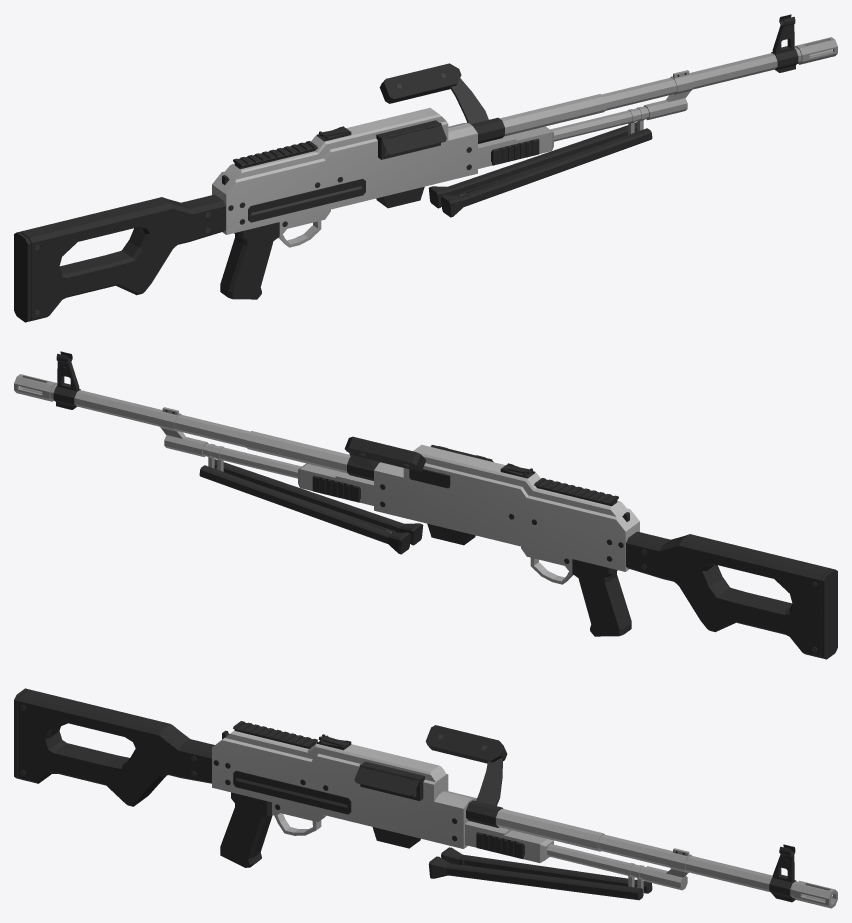
File: LMG3_03.fbx
3 views of the same model, one above another, from view 1: azimuth 30°, elevation 25°; view 2: azimuth 150°, elevation 25°; view 3: azimuth 330°, elevation 25° (orthographic).
Visible parts, largest first — view 1: LMG3_03; view 2: LMG3_03; view 3: LMG3_03.
Part boxes in pixels (box(x1,y1,x2,y2)): LMG3_03: box(14, 14, 837, 322); LMG3_03: box(14, 351, 837, 659); LMG3_03: box(14, 688, 837, 908).
Size of the model in its own units: 1.31 by 0.2463 by 0.1301.
